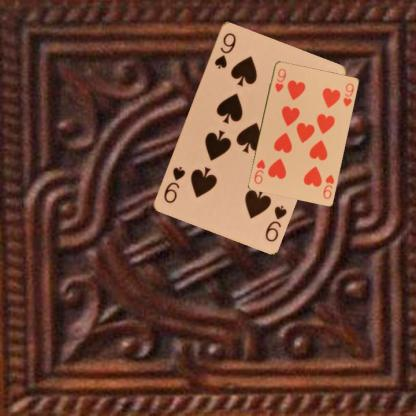9h: (320, 172, 335, 200), (272, 66, 287, 93)
9s: (212, 29, 238, 70), (262, 202, 288, 243)
